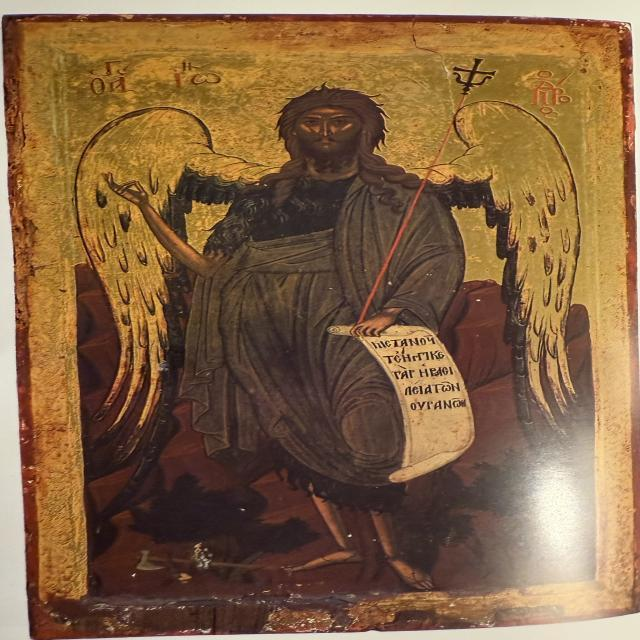angel: (43, 61, 605, 587)
scroll: (322, 316, 492, 484)
wing: (60, 106, 273, 440), (431, 95, 595, 423)
